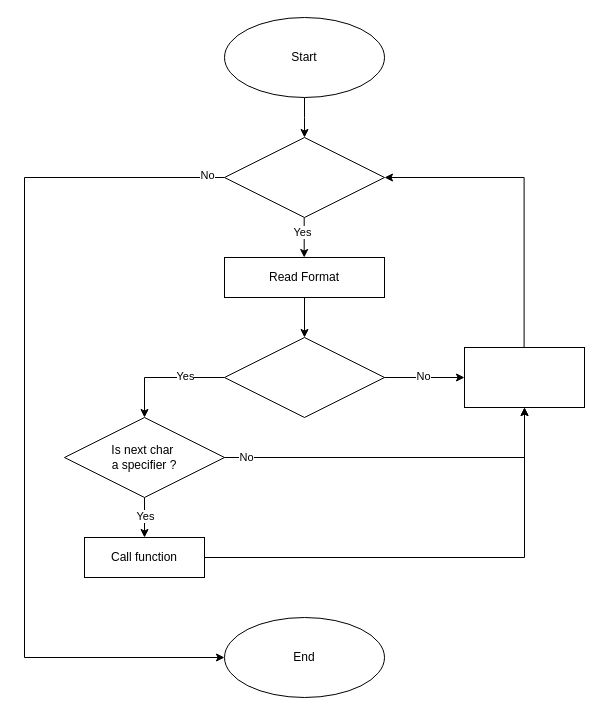
This 602x715 diagram has some shape labels left out. The shapes that lost their labels are listed below. From the top down, each one's centre as x and y in pixels, then its label:
At (x=304, y=177): "Is Format not NULL ?".
At (x=304, y=377): "Is % ?".
At (x=524, y=377): "Print & increase count".
